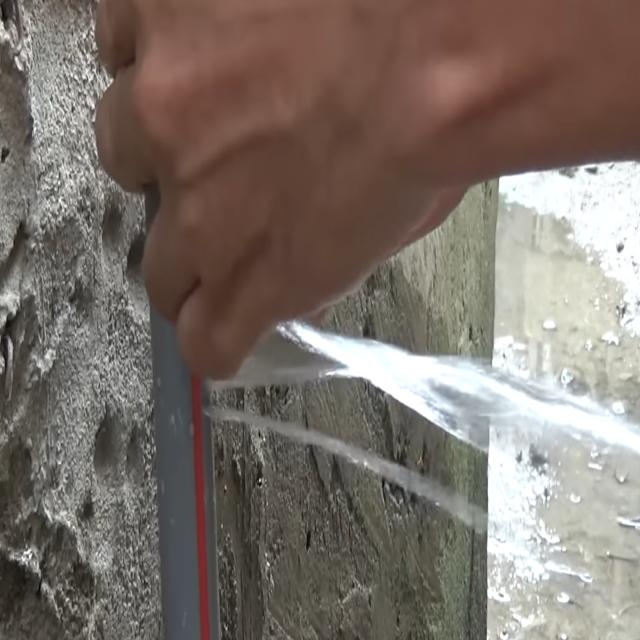leak: (214, 322, 640, 456), (206, 409, 488, 533)
